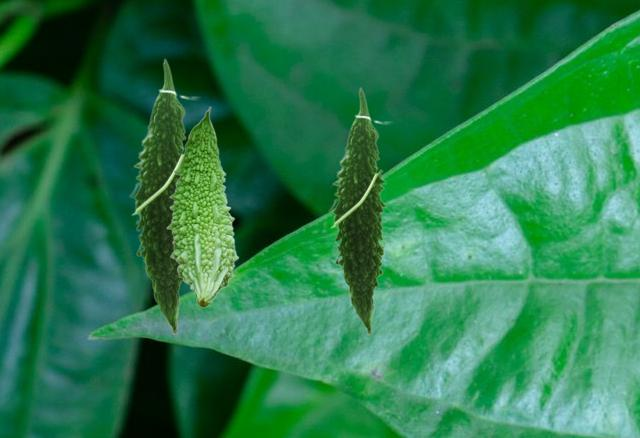ampalaya: (129, 56, 202, 336), (328, 87, 394, 335), (166, 106, 239, 308)
